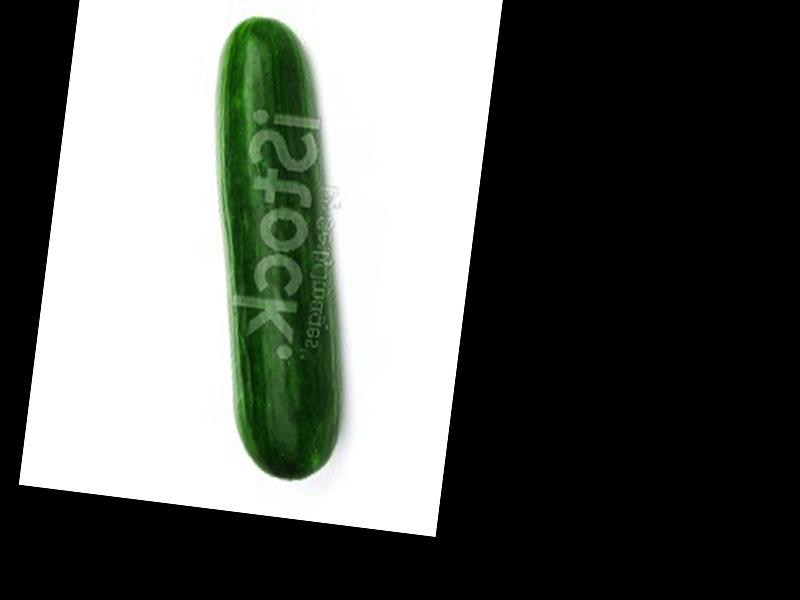Cucumber: (170, 11, 387, 486)
